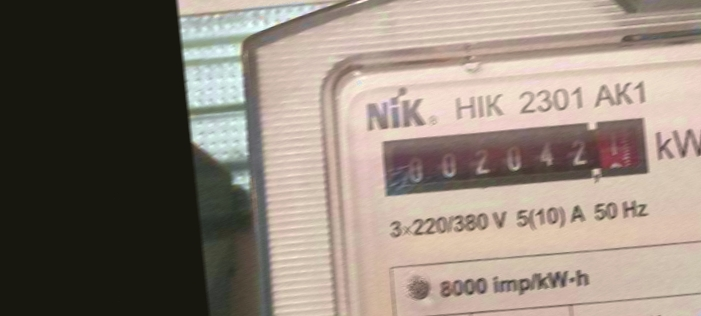0: (438, 149, 458, 182), (405, 154, 426, 185), (503, 143, 524, 174)
1: (604, 128, 621, 160)
2: (471, 147, 492, 178), (569, 137, 589, 168)
4: (536, 137, 557, 171)
screen: (376, 110, 656, 210)
